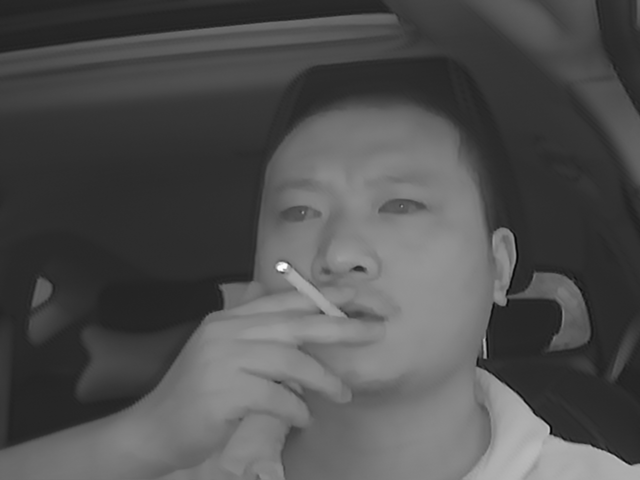hand: (232, 275, 374, 428)
